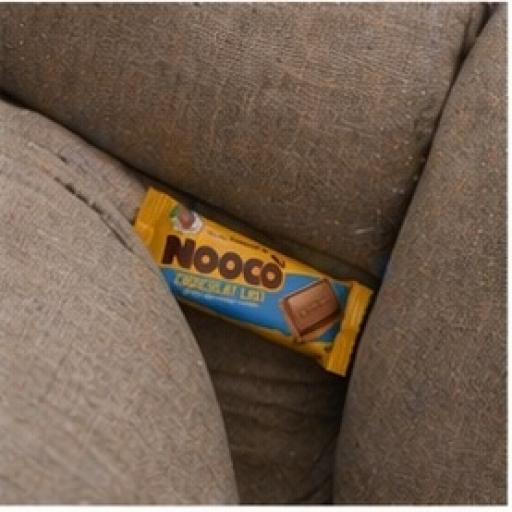nooco: (119, 151, 405, 402)
